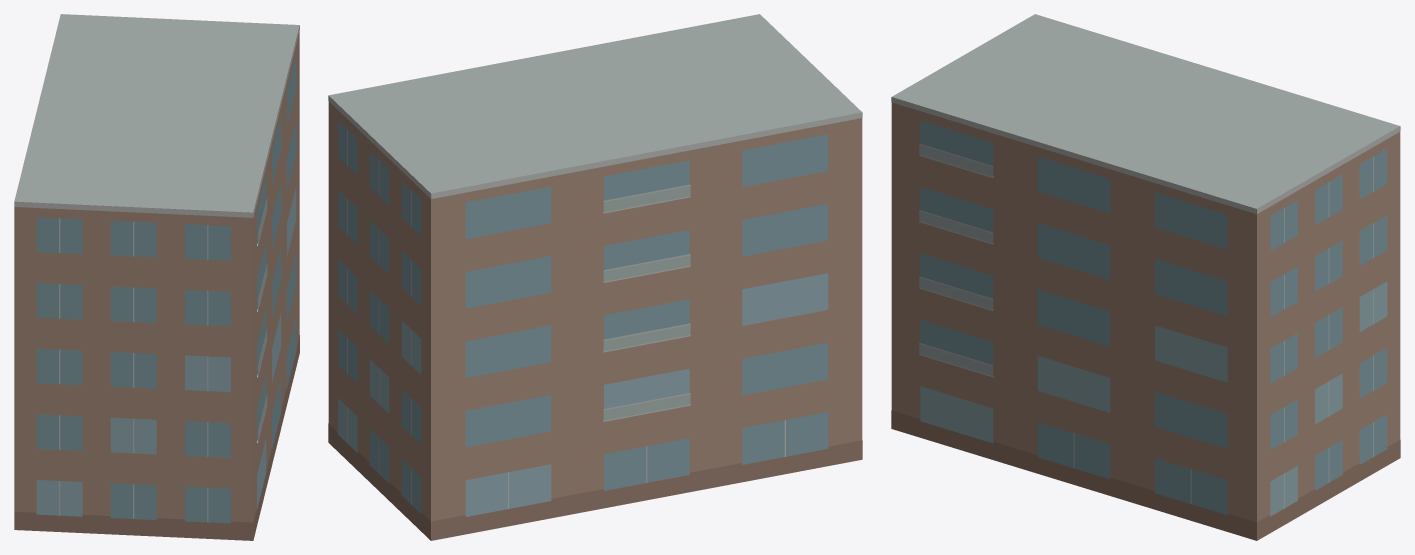
Rendered from survey-upis-32614644.glb.
The picture shows the model from 3 angles, left to right: view 1: azimuth 30°, elevation 25°; view 2: azimuth 150°, elevation 25°; view 3: azimuth 270°, elevation 25°; orthographic projection. The views are drawn at different scales.
Parts seen in each view (by area): view 1: survey-upis-32614644.tmp; view 2: survey-upis-32614644.tmp; view 3: survey-upis-32614644.tmp.
Part boxes in pixels (box(x1,y1,x2,y2)): survey-upis-32614644.tmp: box(14, 14, 299, 540); survey-upis-32614644.tmp: box(328, 14, 862, 540); survey-upis-32614644.tmp: box(891, 14, 1400, 540).
Size of the model in its own units: 19.22 by 15.25 by 21.2.
